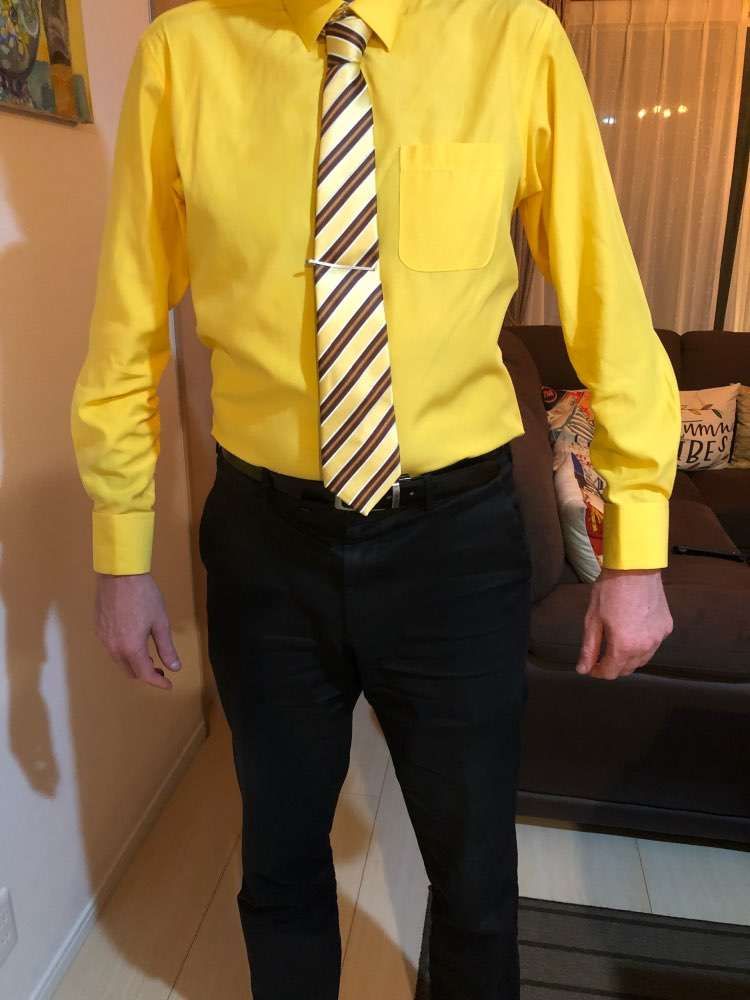shirts: (62, 8, 663, 597)
